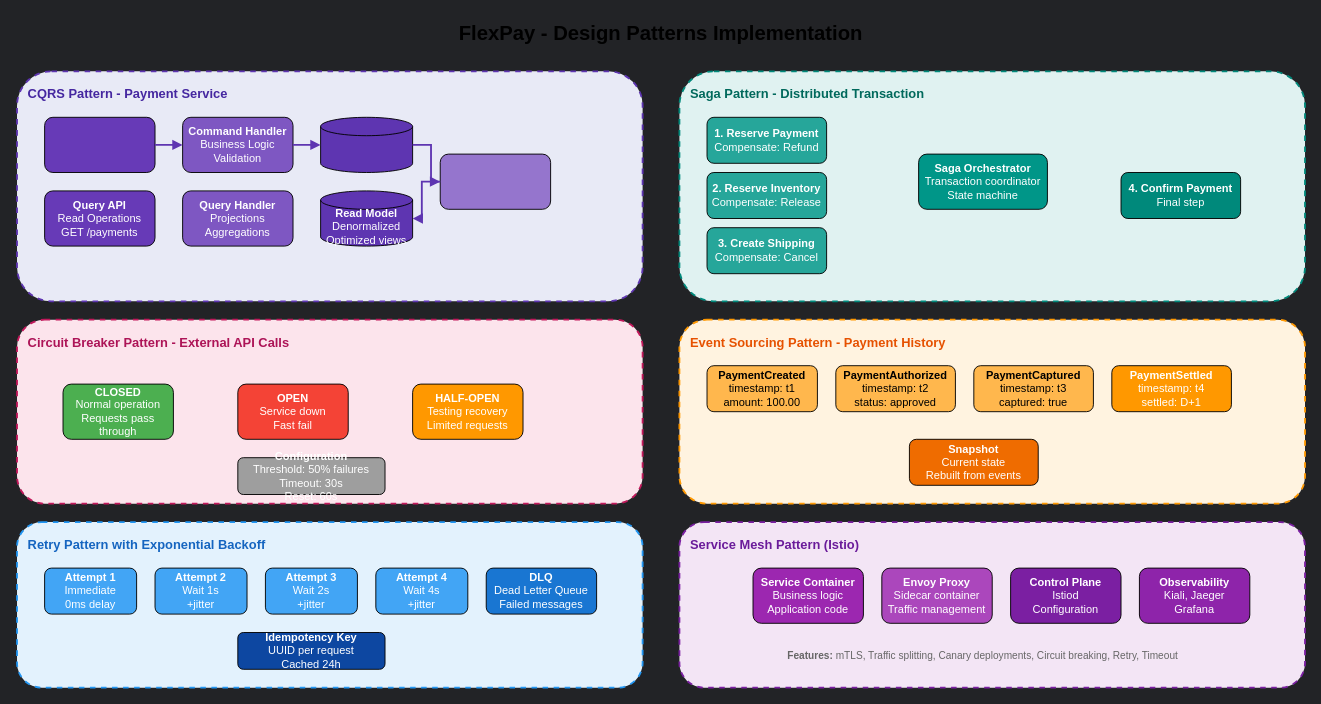
Image size: 1321x704. Some labels were removed from this diagram. Each missing label, with the centre of its shape:
"Command API Write Operations POST /payments" goes at (x=99, y=144).
"Event Store Event Sourcing Immutable log" goes at (x=366, y=144).
"Projection Service Event replay View builder" goes at (x=495, y=181).
